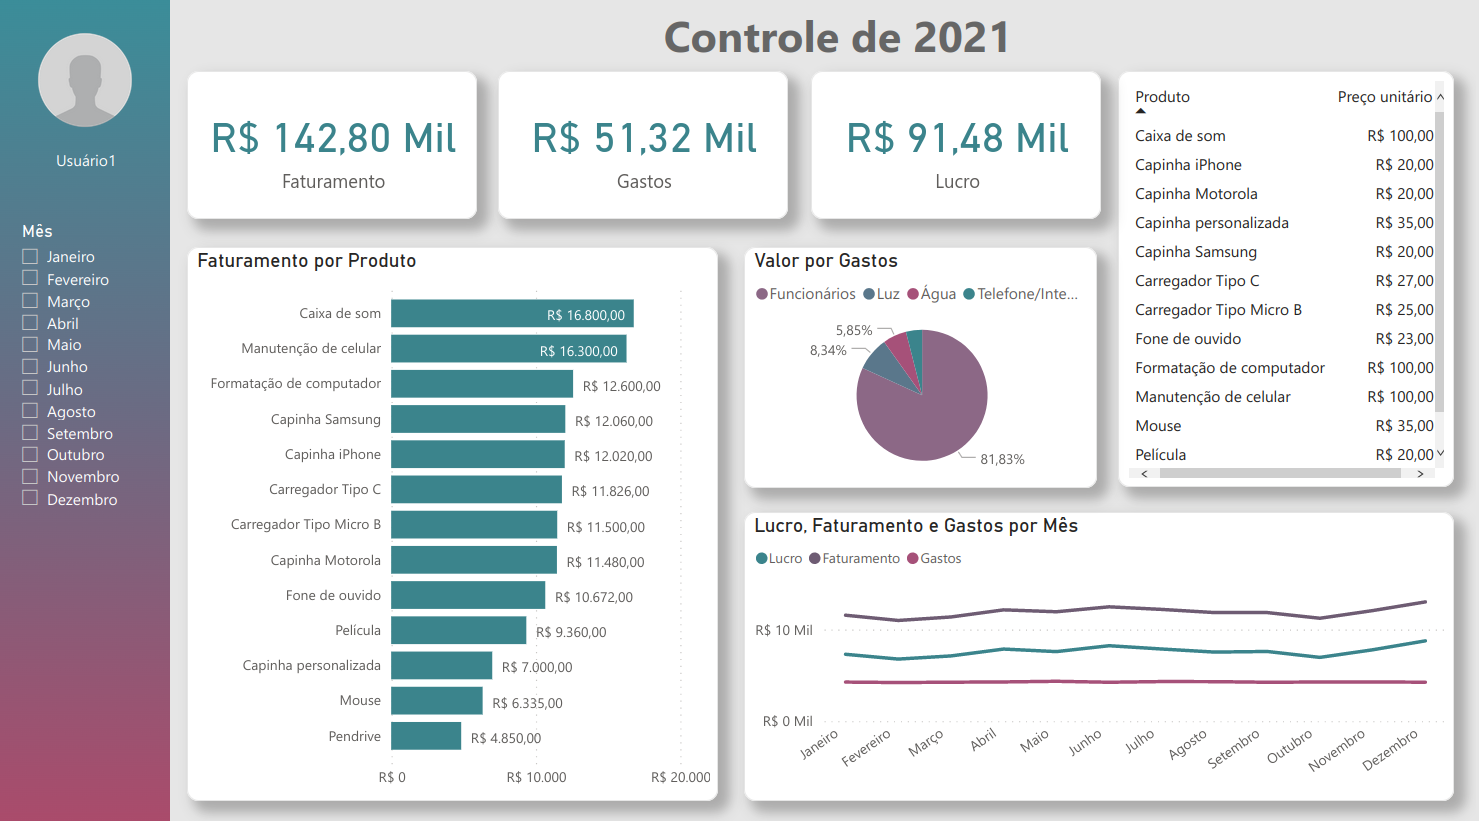

The page's visual inventory and layout, read from the dashboard file:
{"tool":"powerbi","page":{"name":"Página 1","canvas":[1280,720],"ordinal":0},"visuals":[{"type":"lineChart","fields":{"Category":["Gastos.Mês"],"Y":["Gastos.Lucro","Sum(Vendas.Faturamento)","Sum(Gastos.Valor)"]},"box":[647.9,447.3,613.2,249.6],"z":0},{"type":"tableEx","fields":{"Values":["Vendas.Produto","Vendas.Preço unitário"]},"box":[971.1,66.4,290,359.3],"z":1000},{"type":"barChart","fields":{"Y":["Sum(Vendas.Faturamento)"],"Category":["Vendas.Produto"]},"box":[166.7,218.4,458.4,478.6],"z":2000},{"type":"pieChart","fields":{"Category":["Gastos.Gastos"],"Y":["Sum(Gastos.Valor)"]},"box":[648.1,218.4,304.7,208.4],"z":3000},{"type":"image","box":[0,0,157.3,720],"z":4000},{"type":"card","fields":{"Values":["Sum(Vendas.Faturamento)"]},"box":[166.7,66.1,250.1,127.9],"z":5000},{"type":"card","fields":{"Values":["Sum(Gastos.Valor)"]},"box":[435.4,66.1,250.1,127.9],"z":6000},{"type":"card","fields":{"Values":["Gastos.Lucro"]},"box":[705.6,66.1,250.1,127.9],"z":7000},{"type":"image","box":[0,0,157.3,148.6],"z":8000},{"type":"slicer","fields":{"Values":["Gastos.Mês"]},"box":[11.5,193.3,128.4,300.1],"z":9000},{"type":"textbox","box":[40.4,128.4,77.9,49.1],"z":10000},{"type":"textbox","box":[528.9,4.3,401,73.3],"z":11000}]}

Visuals, with their boxes in screenshot pixels (x1, y1, x2, y2), scaled from the page's 1280x720 canvas onto the 1479x821 screenshot:
lineChart - Gastos.Mês x Gastos.Lucro: select_region(749, 510, 1457, 795)
tableEx - Vendas.Produto x Vendas.Preço unitário: select_region(1122, 76, 1457, 485)
barChart - Sum(Vendas.Faturamento) x Vendas.Produto: select_region(193, 249, 722, 795)
pieChart - Gastos.Gastos x Sum(Gastos.Valor): select_region(749, 249, 1101, 487)
image: select_region(0, 0, 182, 820)
card - Sum(Vendas.Faturamento): select_region(193, 75, 482, 221)
card - Sum(Gastos.Valor): select_region(503, 75, 792, 221)
card - Gastos.Lucro: select_region(815, 75, 1104, 221)
image: select_region(0, 0, 182, 169)
slicer - Gastos.Mês: select_region(13, 220, 162, 563)
textbox: select_region(47, 146, 137, 202)
textbox: select_region(611, 5, 1074, 88)
